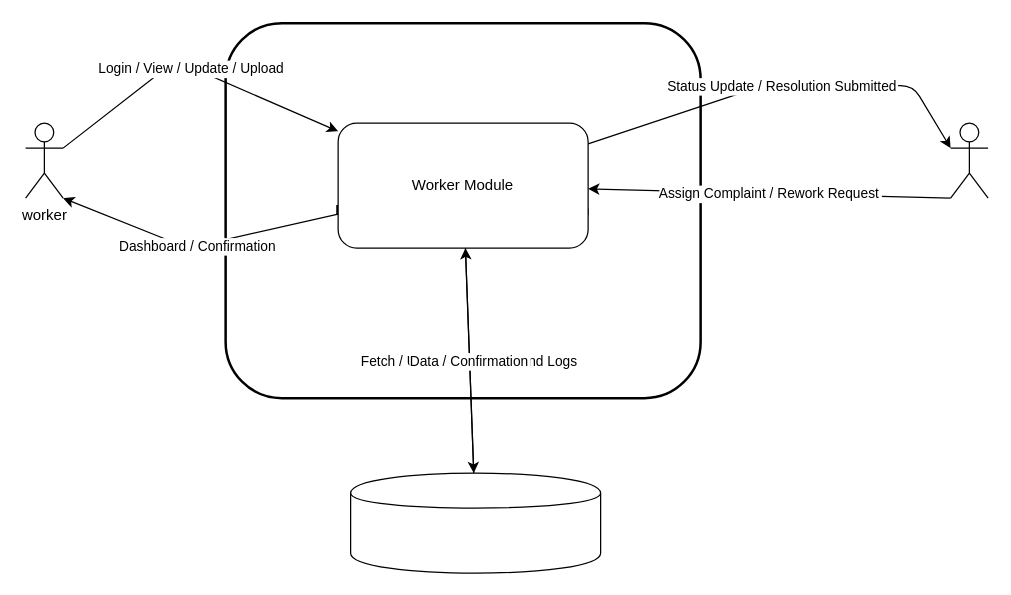
Image size: 1011x595. Some labels were removed from this diagram. Each missing label, with the centre of its shape:
"admin" belongs at (968,160).
"Database (Complaints, Workers, Logs)" belongs at (475,522).
